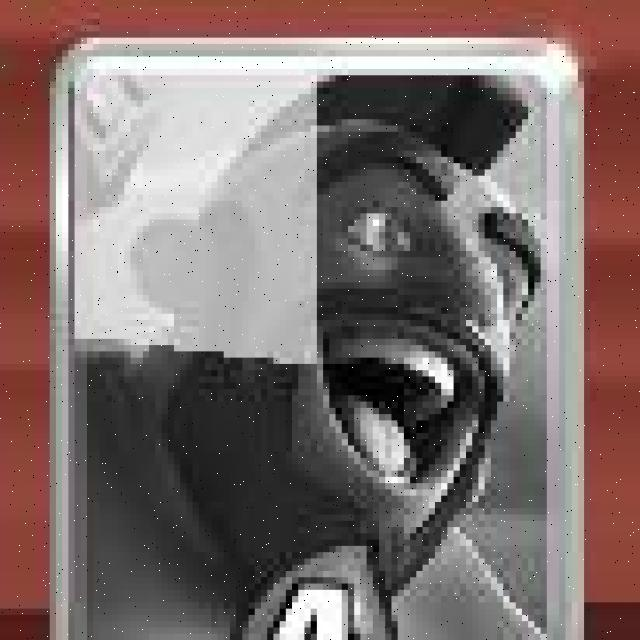Hog_Rider: (49, 34, 589, 640)
